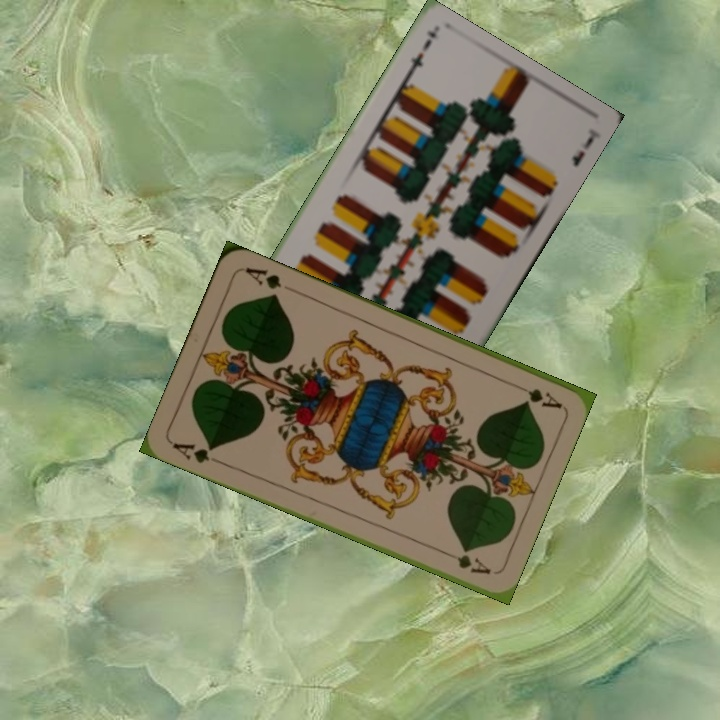E7: (401, 35, 434, 82)
GA: (507, 378, 564, 411), (168, 439, 217, 466)
